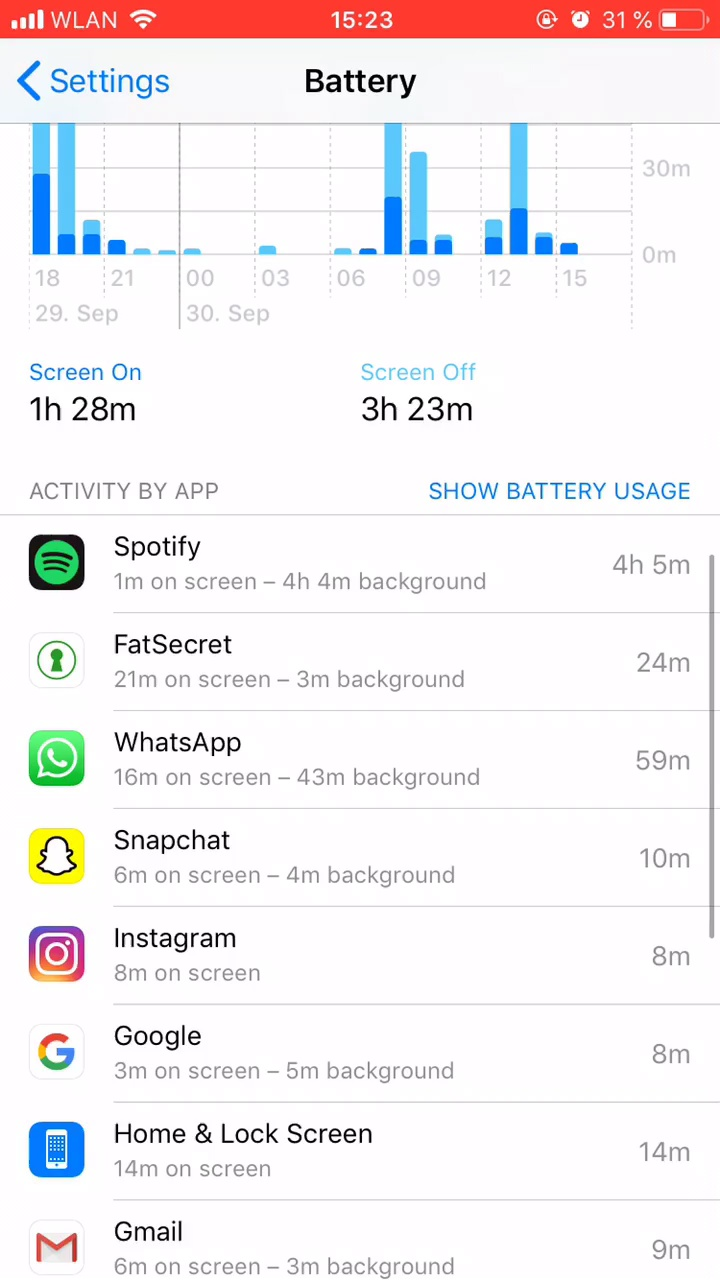app: (21, 522, 700, 598), (25, 618, 704, 694), (19, 718, 698, 794), (19, 813, 698, 889), (17, 811, 696, 887), (24, 918, 703, 994), (23, 1013, 702, 1089), (23, 1115, 702, 1191), (23, 1204, 702, 1280)
